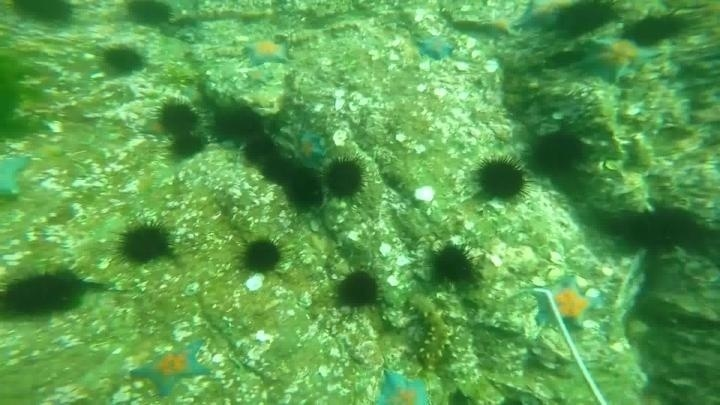echinus: (623, 202, 711, 257), (1, 266, 88, 321), (526, 128, 587, 178), (114, 220, 175, 267), (473, 155, 530, 204), (553, 1, 623, 40), (624, 11, 688, 48), (428, 242, 479, 288), (322, 155, 368, 202), (333, 268, 383, 311), (211, 102, 262, 144), (282, 165, 325, 212), (7, 1, 78, 29), (238, 235, 285, 276), (97, 43, 147, 79), (155, 98, 201, 136), (122, 1, 175, 29), (258, 152, 297, 187), (241, 134, 279, 167), (168, 131, 208, 161), (445, 386, 473, 405)
holothurian: (405, 291, 456, 368)
scallop: (377, 241, 394, 259)
starfish: (130, 336, 212, 398), (574, 34, 660, 86), (532, 274, 600, 334), (513, 1, 576, 35), (375, 367, 433, 403), (1, 150, 34, 204), (242, 35, 291, 68), (293, 127, 329, 167), (414, 32, 458, 63), (484, 14, 521, 38), (139, 117, 169, 139), (244, 65, 274, 87)
